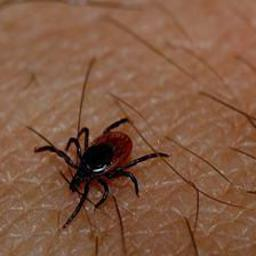Rhipicephalus sanguineus: (33, 116, 170, 230)
